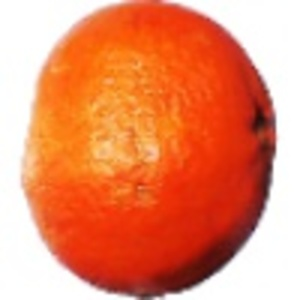tangerina: (19, 1, 281, 300)
